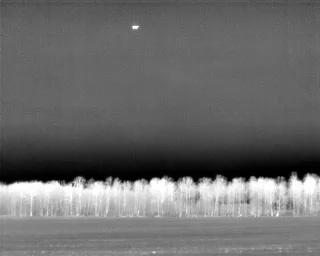DRONE: (129, 21, 142, 34)
